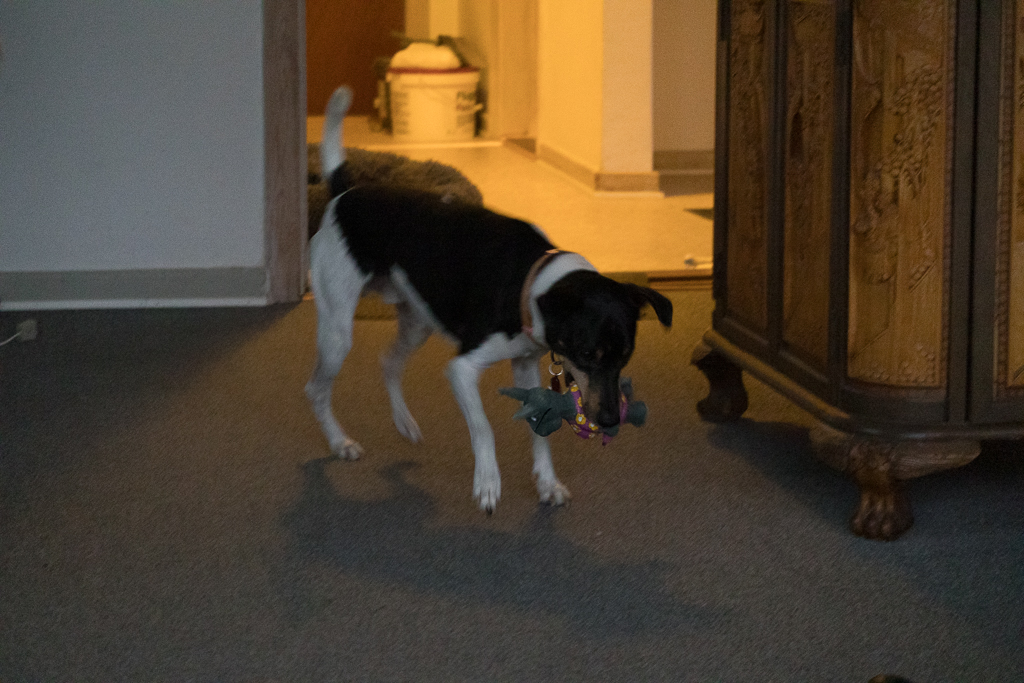Dog: (288, 81, 678, 536)
Humanoid: (493, 361, 658, 457)
